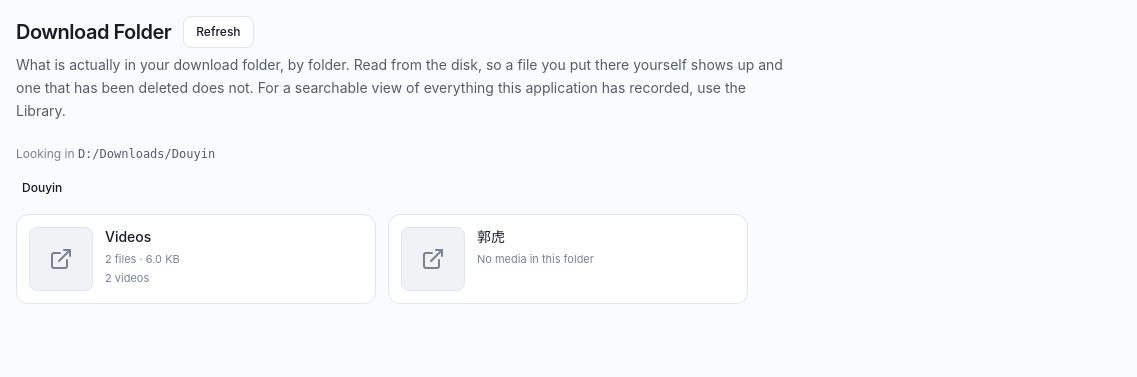
Test: says a folder is empty rather than showing an empty grid
The width and height of the screenshot is (1137, 377).
expect the text "Videos" is shown: met, box [105,228,151,245]
Click the button "郭虎 No media in this folder". click: (568, 259)
box: [388,214,748,304]
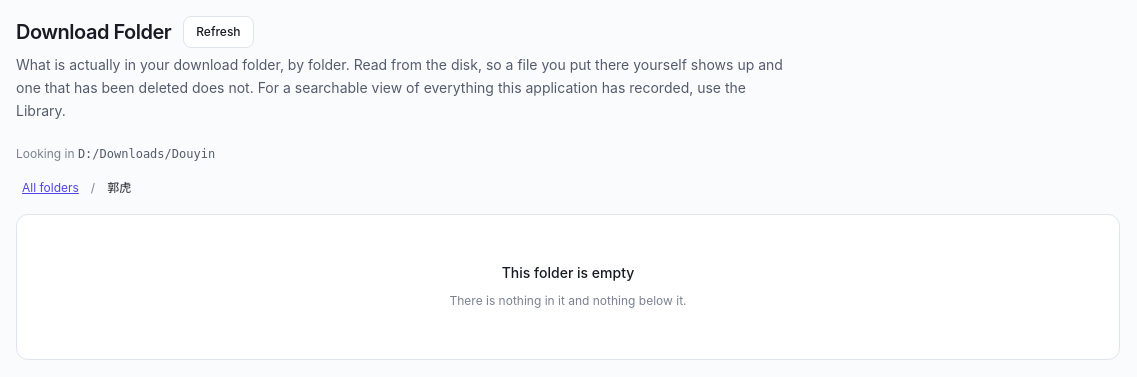
expect the text "This folder is empty" is shown: met, box [502,263,634,283]
